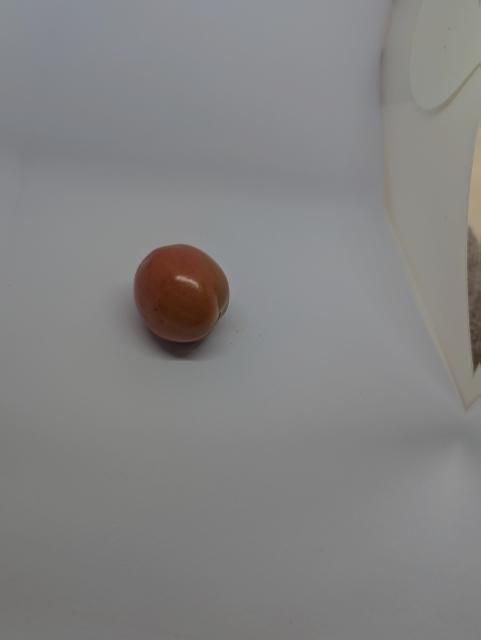red: (127, 235, 238, 349)
